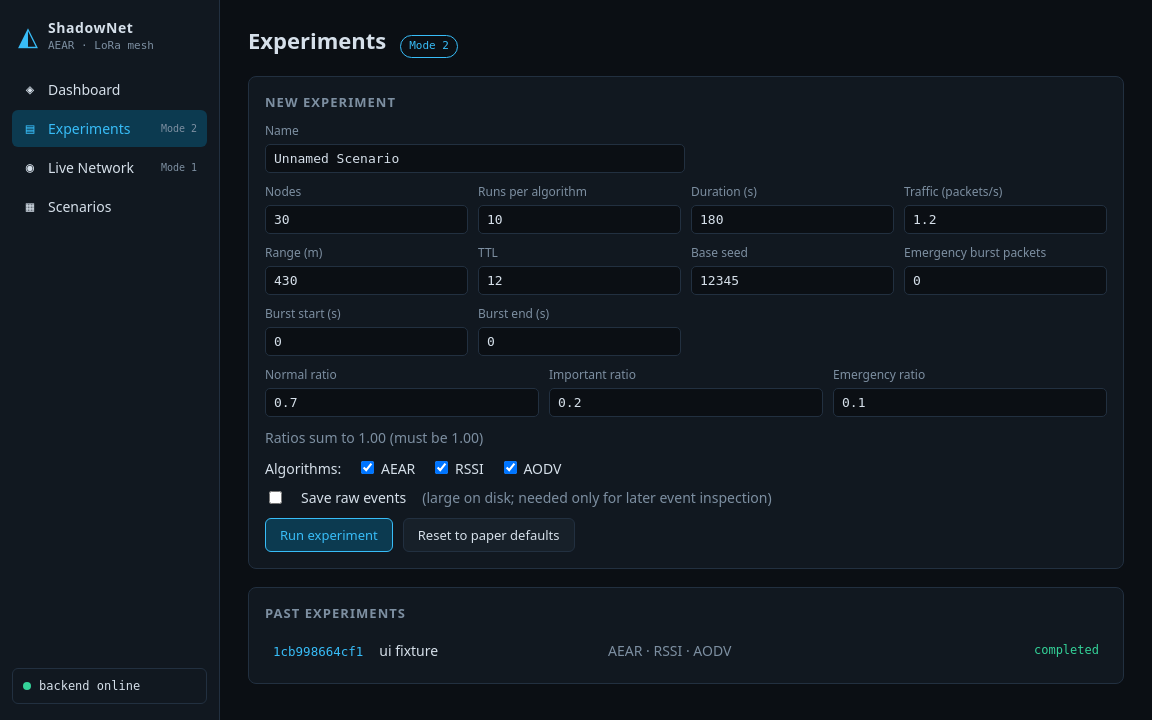
Experiments (Mode 2) › shows the server's rejection reason instead of failing silently
The width and height of the screenshot is (1152, 720).
Click the button "Run experiment" at (329, 535), box [265,518,393,552]
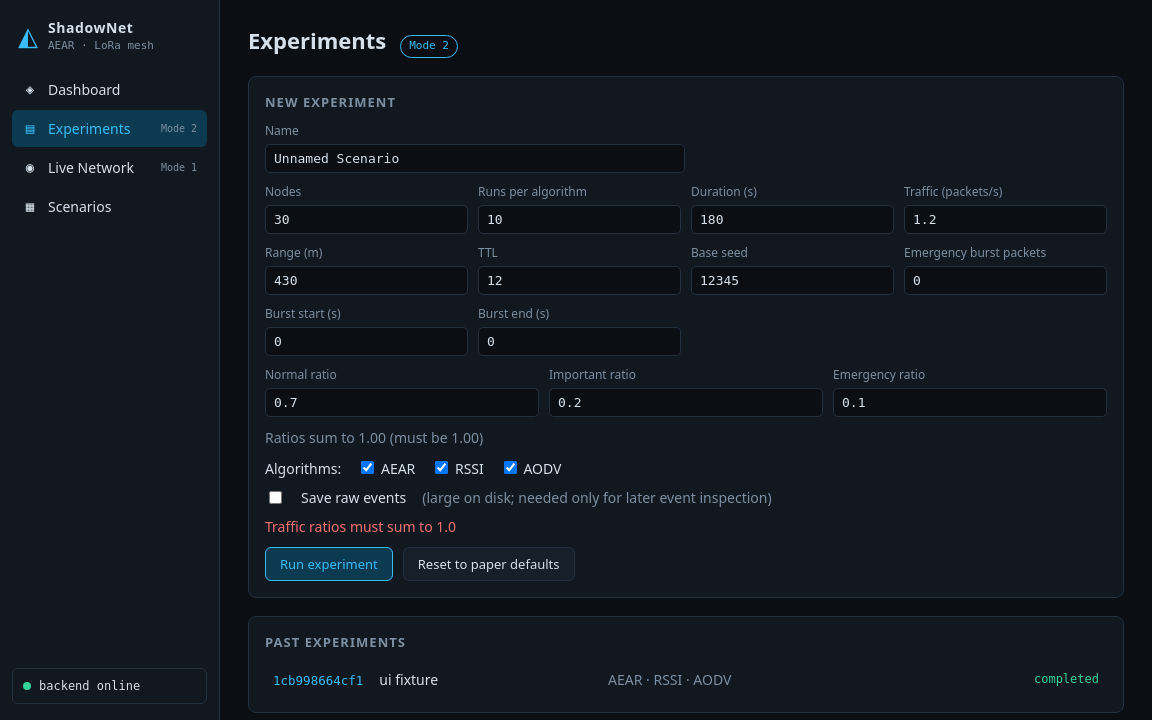
Expected: the button "Run experiment" is enabled, [265,547,393,581]
Expected: the text "Traffic ratios must sum to 1.0" is shown, [265,517,456,536]
